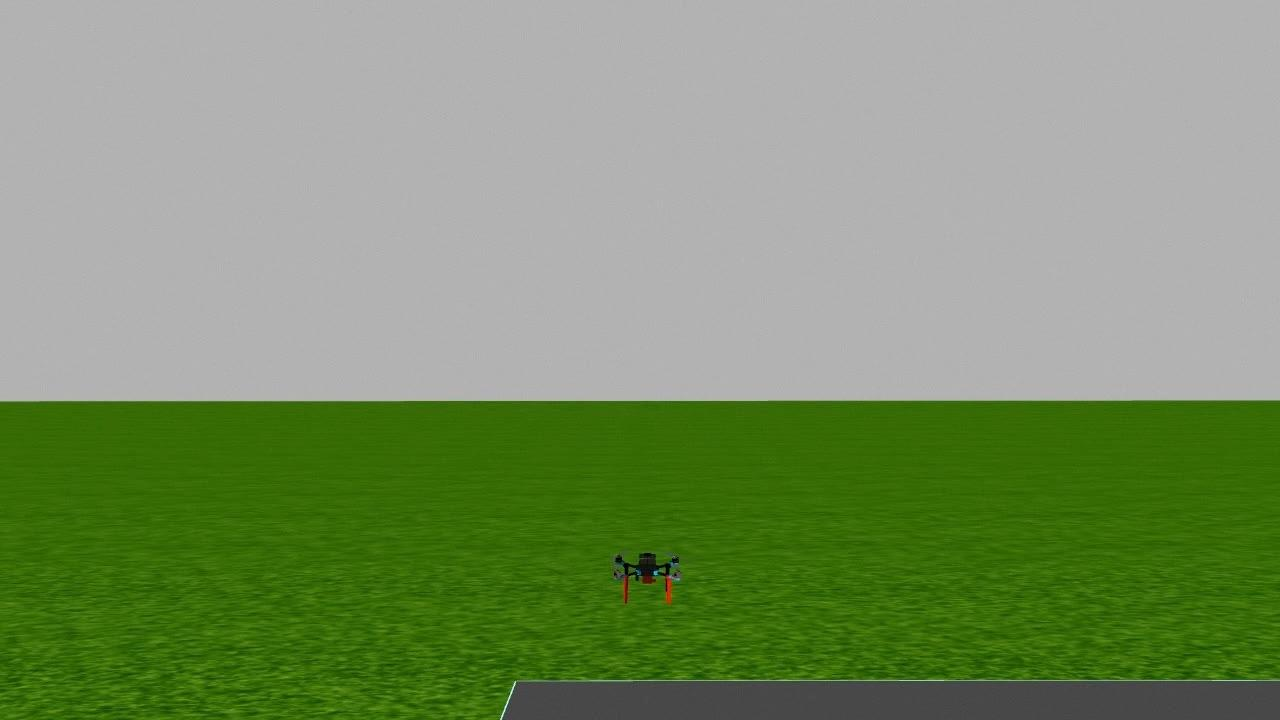UAV: (597, 532, 692, 614)
